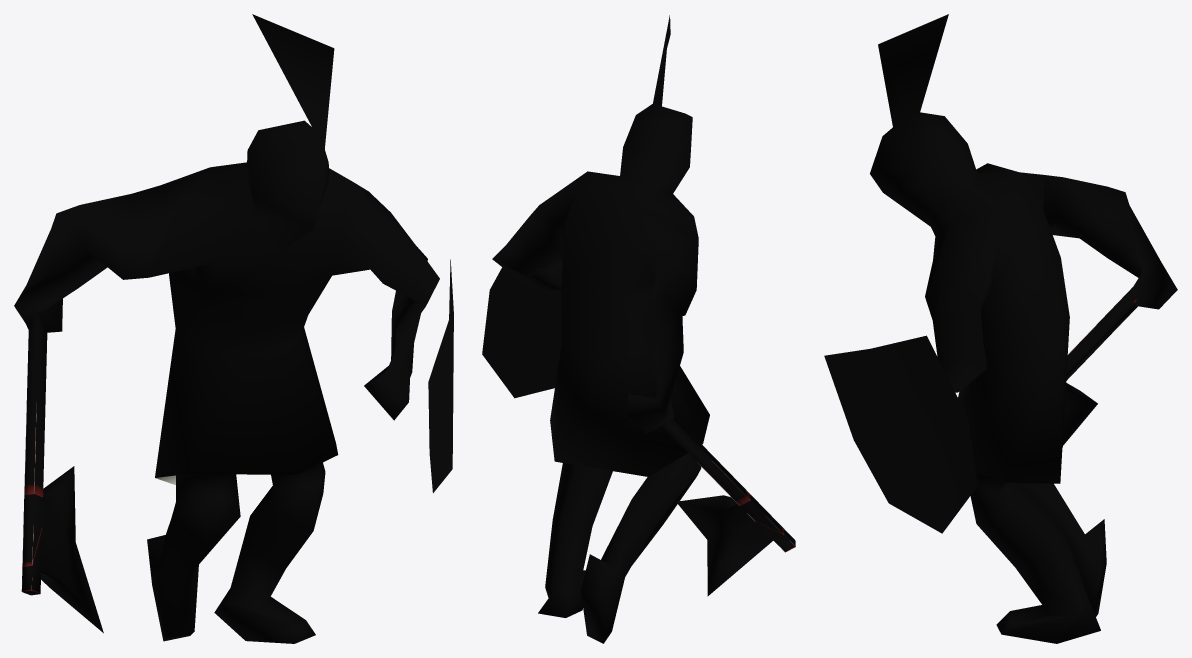
3 views of the same model, side by side, from view 1: azimuth 30°, elevation 25°; view 2: azimuth 150°, elevation 25°; view 3: azimuth 270°, elevation 25° (orthographic). The views are drawn at different scales.
Parts seen in each view (by area): view 1: T1L4M007_1; view 2: T1L4M007_1; view 3: T1L4M007_1.
Boxes of the visible parts, x1,y1,x2,y2 form: T1L4M007_1: (14,14,453,643); T1L4M007_1: (482,15,795,643); T1L4M007_1: (824,14,1177,643).
Bounding box in the file's own units: 1.64 × 2.64 × 1.41.
